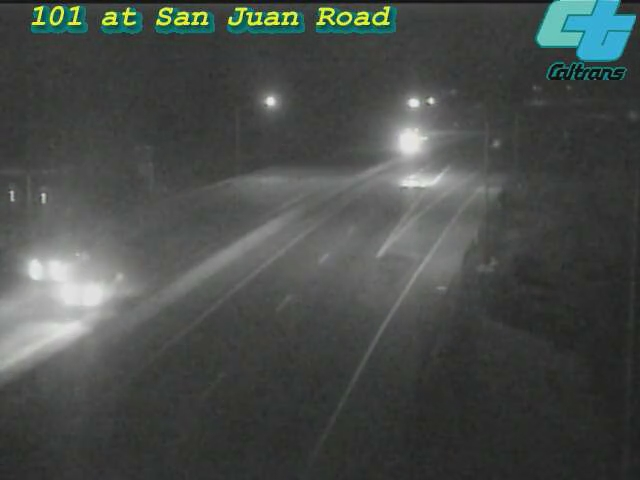vehicle: (11, 227, 91, 307), (37, 257, 117, 337), (368, 145, 448, 225), (385, 116, 435, 166)
